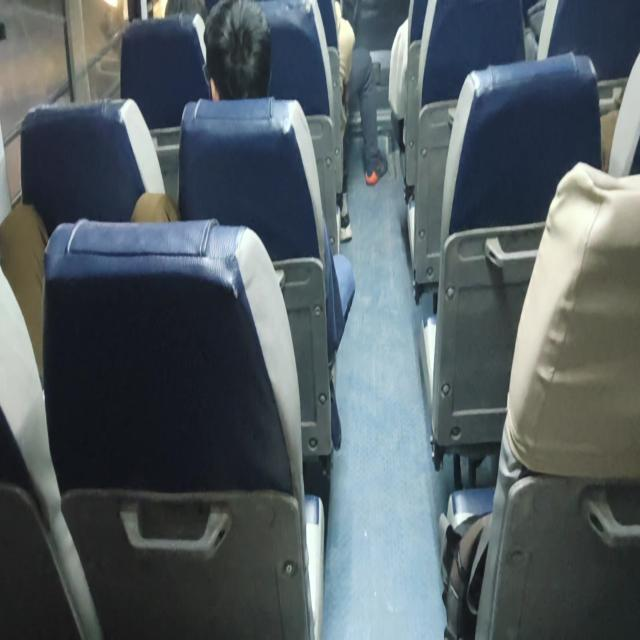person: (130, 0, 356, 449), (130, 0, 272, 223), (334, 4, 388, 186), (202, 0, 272, 101)
